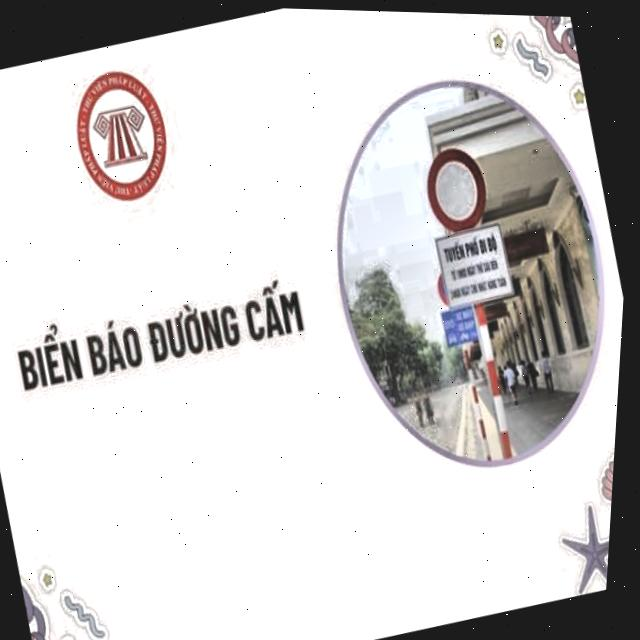Bien_bao_duong_cam: (412, 138, 497, 238)
